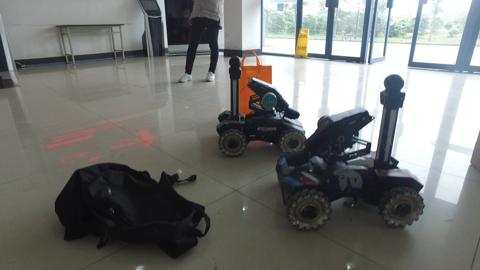bag: (50, 156, 209, 254)
chariot: (273, 74, 429, 229), (215, 56, 304, 155)
